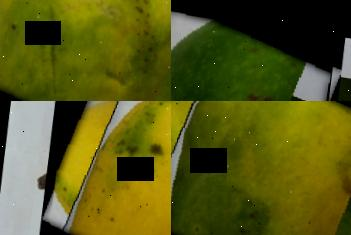PartiallyRipe: (171, 101, 351, 235), (0, 0, 171, 101)
Ripe: (43, 101, 171, 235)
Unripe: (171, 0, 340, 101)
